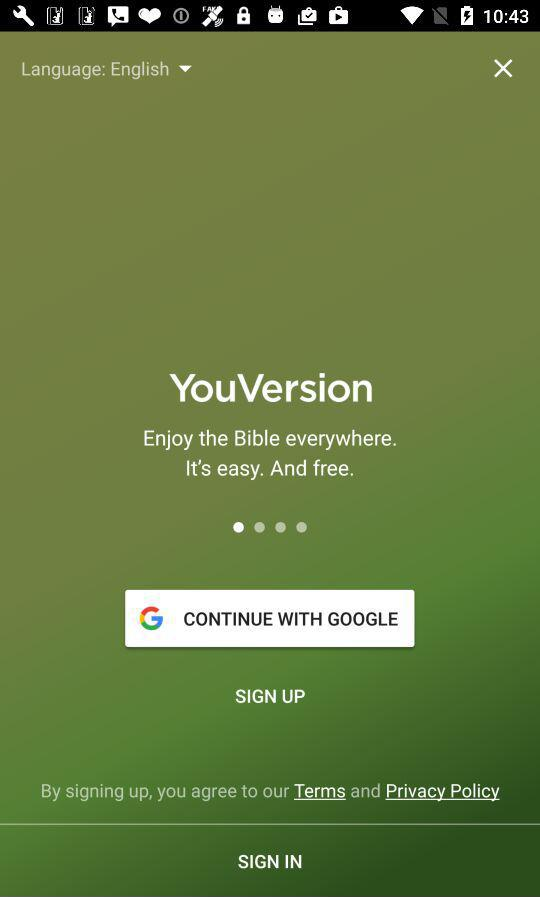Icon: (493, 59, 514, 80)
PageIndicator: (232, 520, 309, 535)
Spinner: (111, 61, 194, 81)
Text: (144, 428, 397, 482), (42, 782, 501, 803), (169, 372, 374, 405), (22, 61, 107, 82), (236, 688, 306, 705)
TextButton: (1, 823, 540, 897), (125, 590, 416, 648)
UpperTaskBar: (1, 1, 540, 33)
